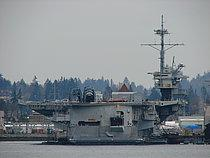MIL_Ship: (27, 30, 182, 141)
